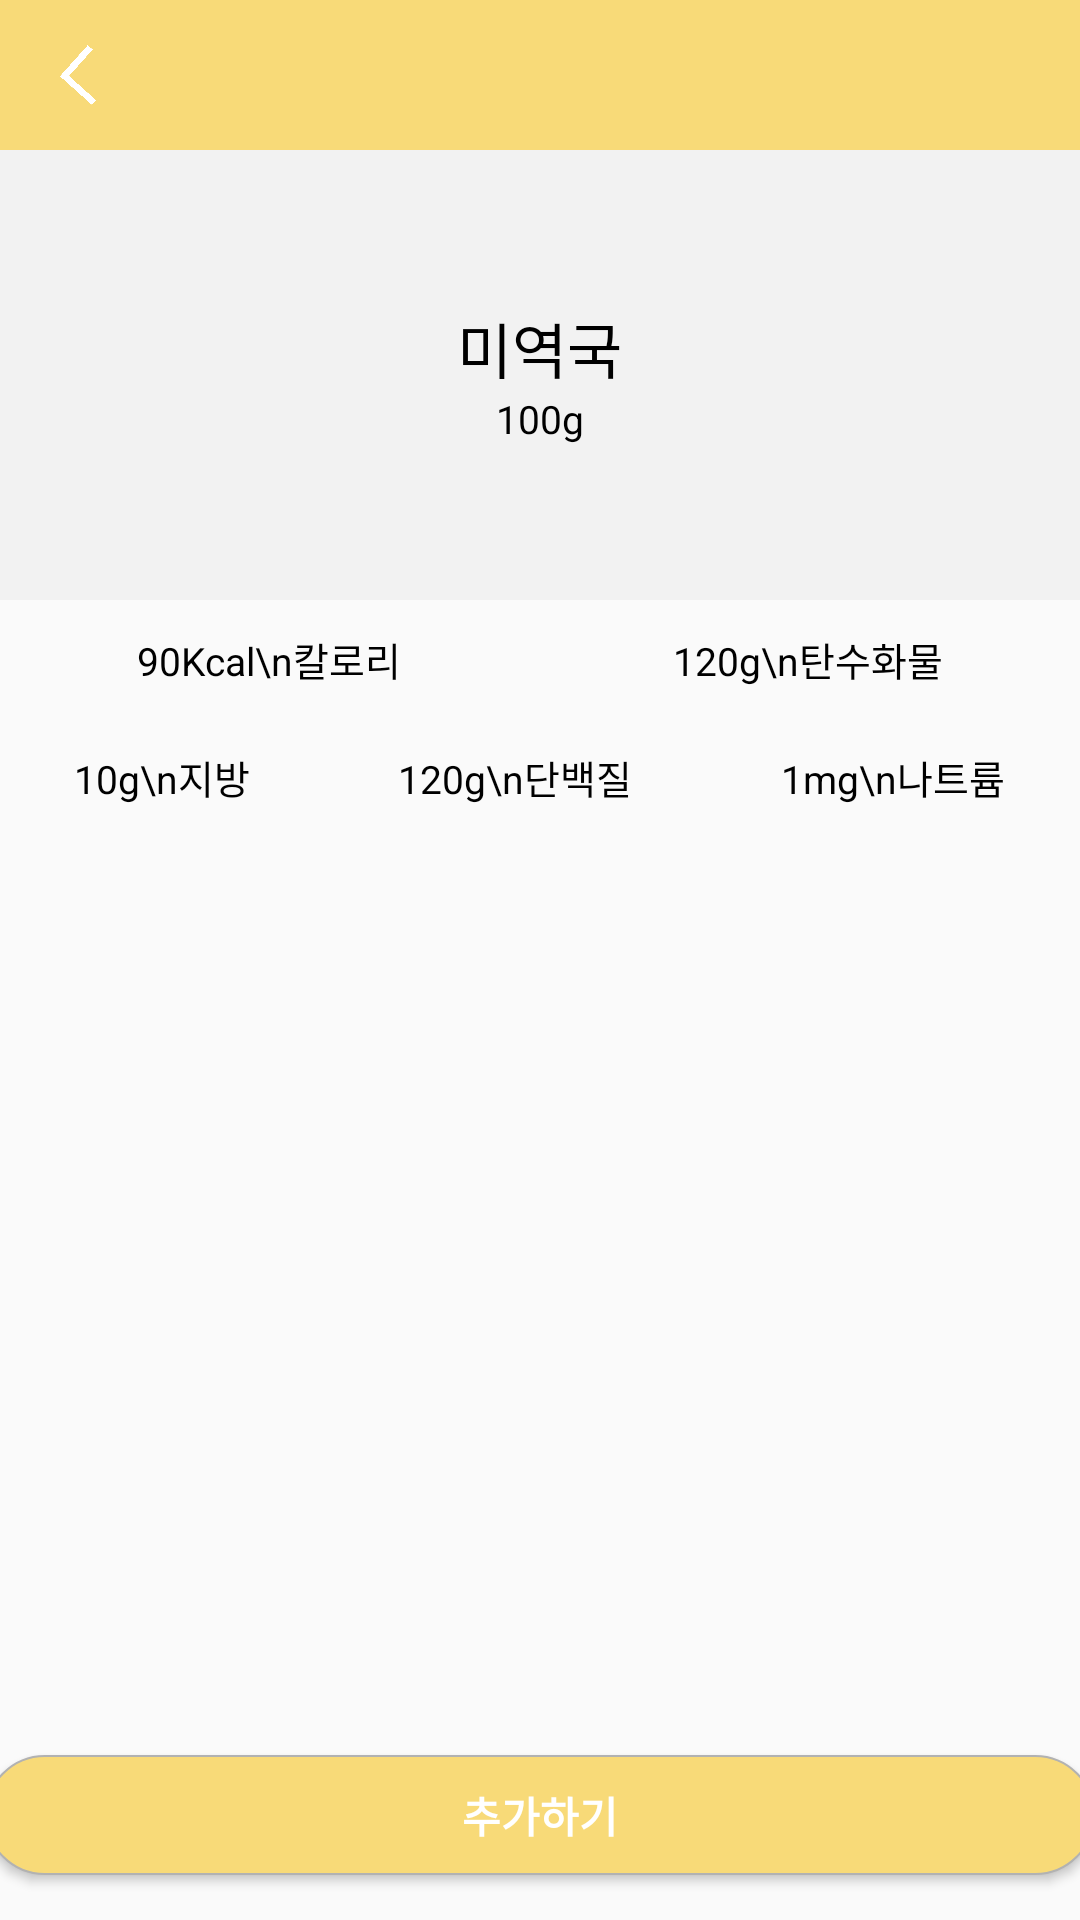

Icon click points for this 1080 × 1920 phone screenshot, format point (x, y):
back: point (78, 75)
